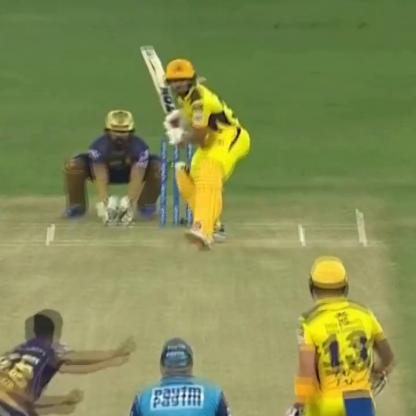ball: (162, 237, 174, 252)
bat: (138, 36, 188, 132)
pitch: (10, 202, 393, 415)
